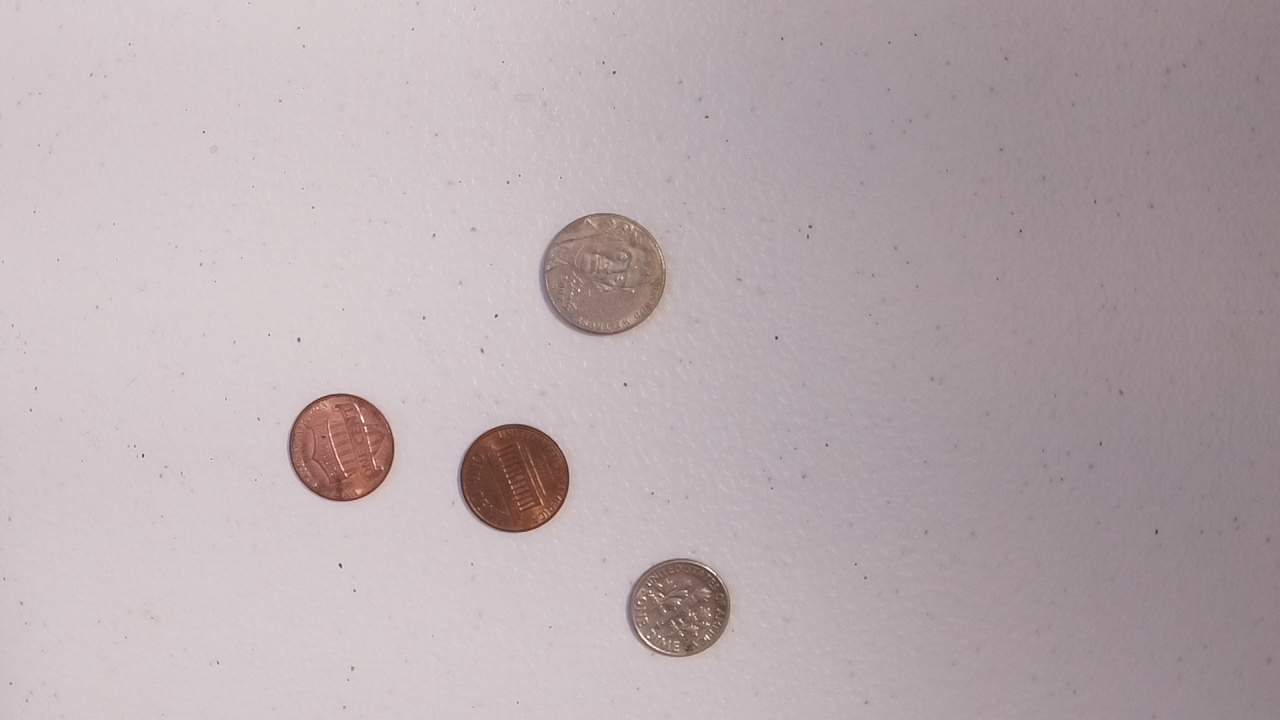dime: (624, 558, 732, 658)
nickel: (535, 208, 671, 338)
penny: (456, 419, 574, 537), (284, 389, 400, 503)
